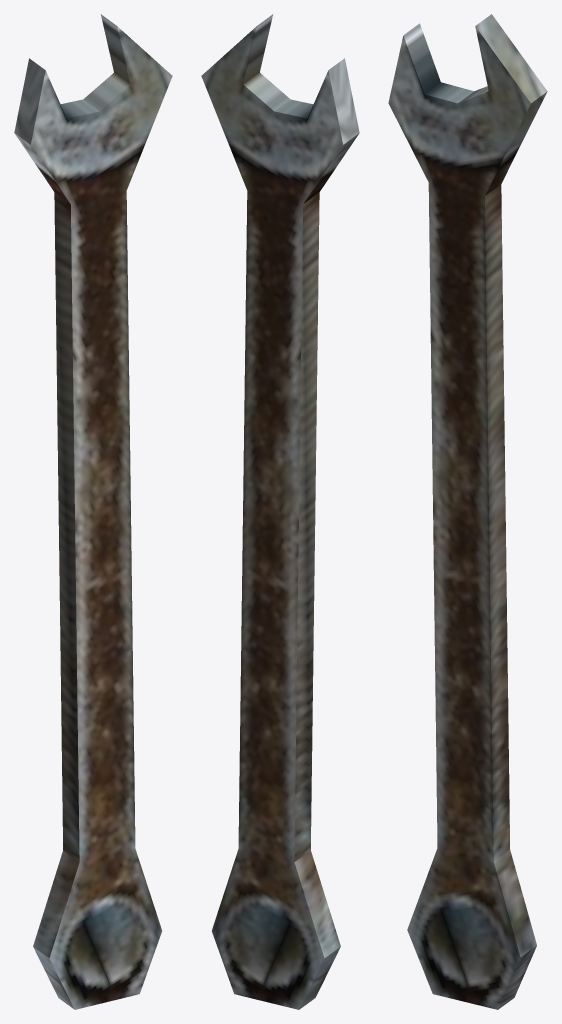
3 renders of one model, left to right at view 1: azimuth 30°, elevation 25°; view 2: azimuth 150°, elevation 25°; view 3: azimuth 330°, elevation 25°, orthographic.
Visible parts, largest first — view 1: Wrench; view 2: Wrench; view 3: Wrench.
Part boxes in pixels (x1=…): Wrench: x1=14, y1=14, x2=172, y2=1009; Wrench: x1=201, y1=14, x2=359, y2=1009; Wrench: x1=388, y1=14, x2=547, y2=1009.
Size of the model in its own units: 0.3133 by 2.05 by 0.0629.
Materials: 1 (1 with a texture image).
